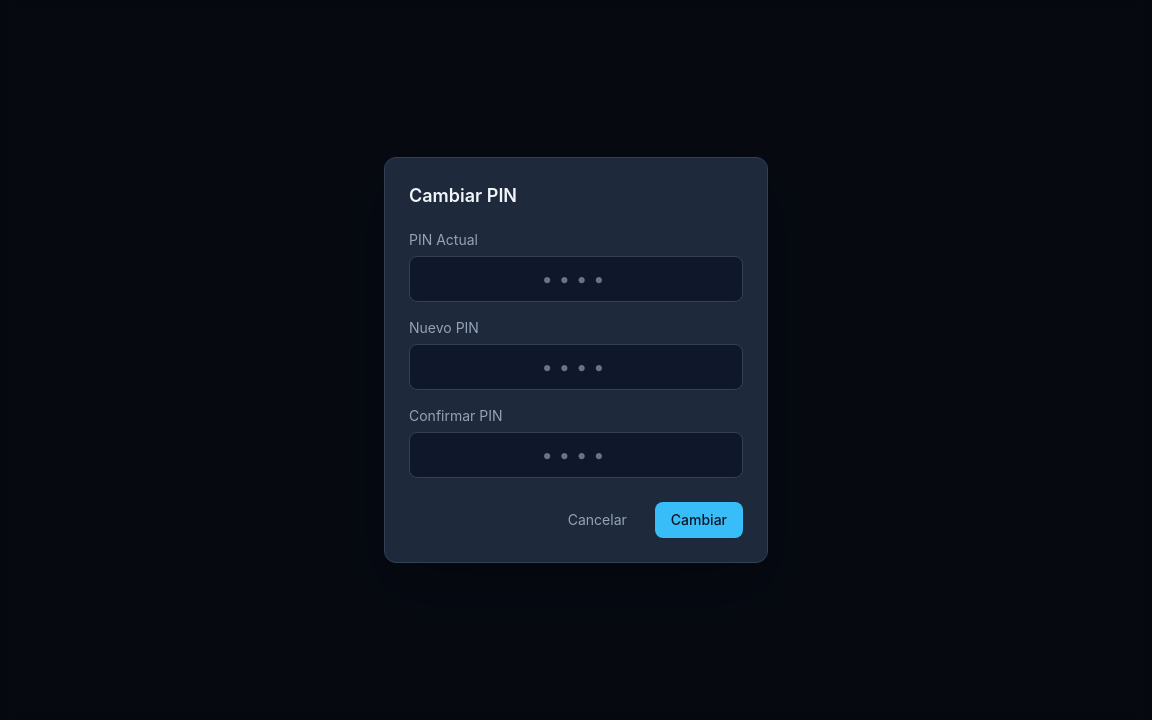
PinDialog — change mode (Req 2.6) › should show error for invalid new PIN format in change mode
Type "1234" into the password field with test id "pin-input-current". click: (576, 279)
box: [409,256,743,302]
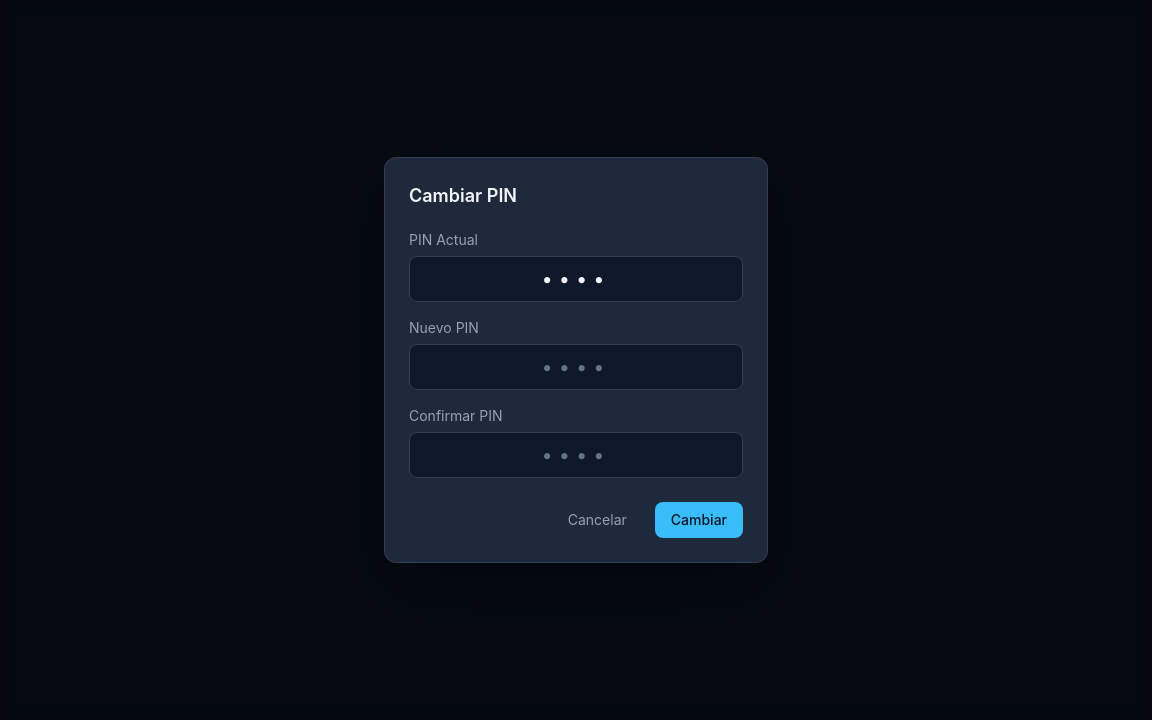
Type "12" into the password field with test id "pin-input-new". click: (576, 367)
box: [409,344,743,390]
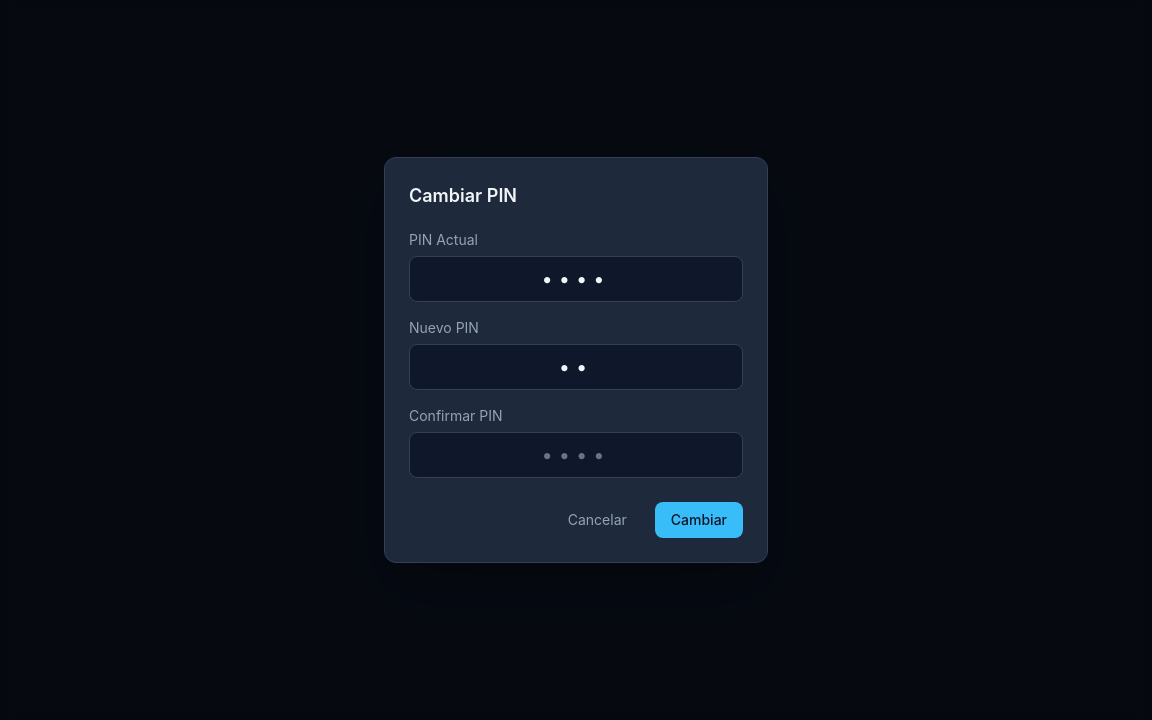
Type "12" into the password field with test id "pin-input-confirm". click: (576, 455)
box: [409,432,743,478]
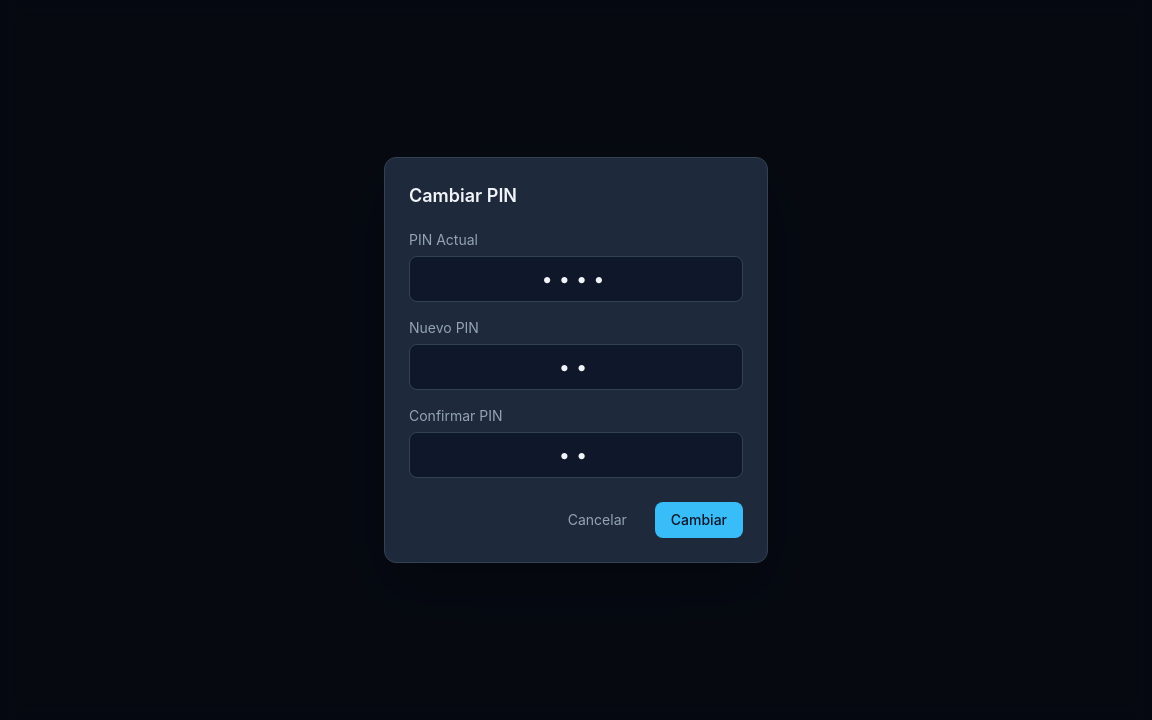
Click the button with test id "pin-dialog-submit". click: (699, 520)
box: [655,502,743,538]
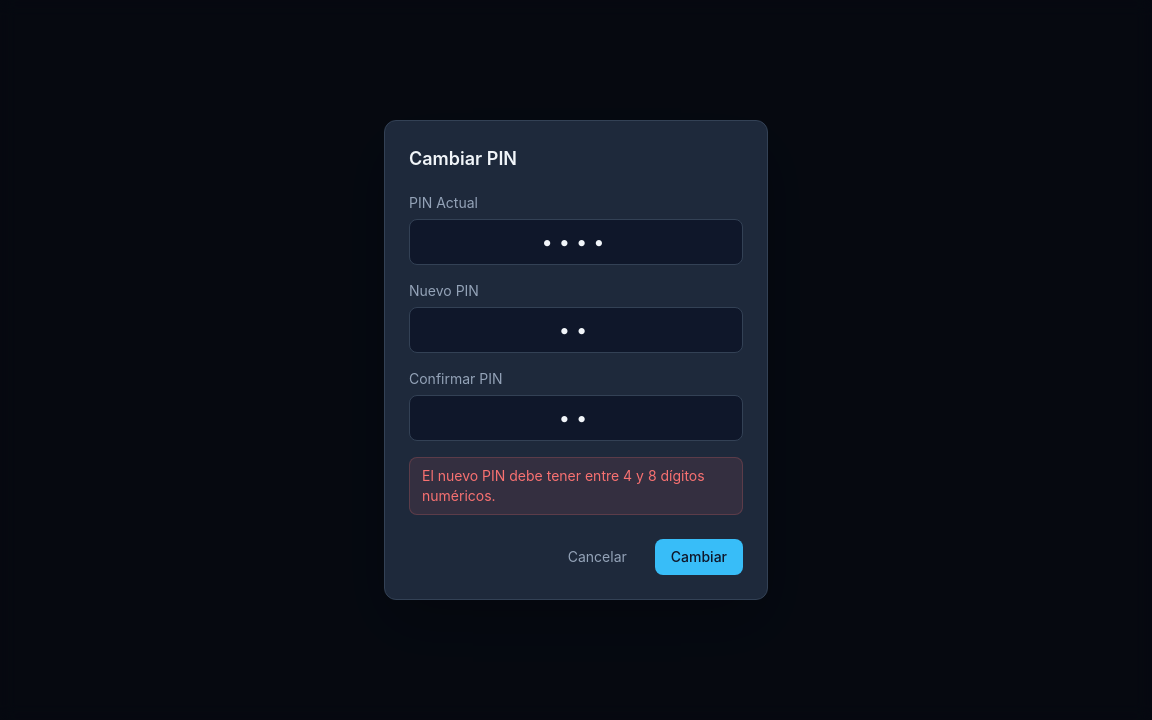
Expected: the message with test id "pin-dialog-error" reads "El nuevo PIN debe tener entre 4 y 8 dígitos numéricos.", [422,467,705,504]
